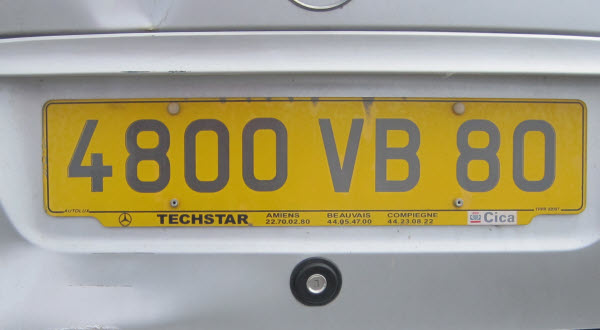license_plate: (43, 97, 585, 227)
